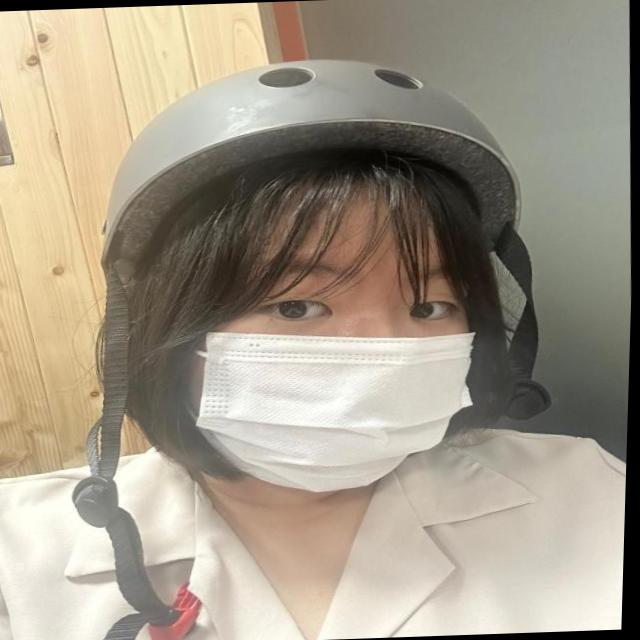helmet: (55, 47, 574, 640)
